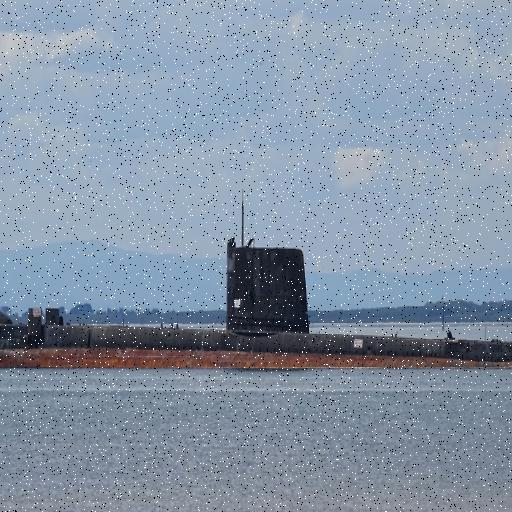submarine: (1, 186, 512, 368)
